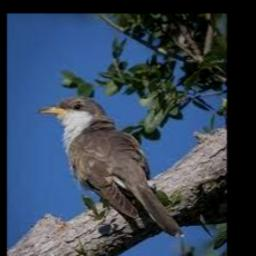Cuckoo: (39, 97, 186, 237)
